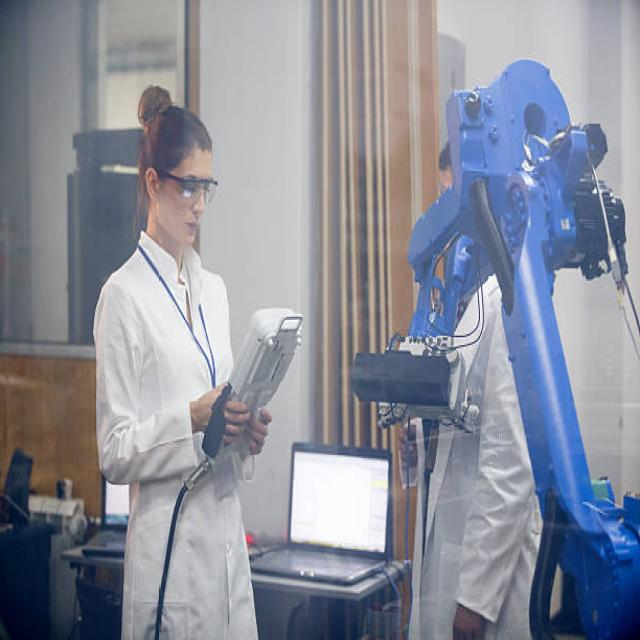Robotic-arm: (401, 50, 638, 640)
